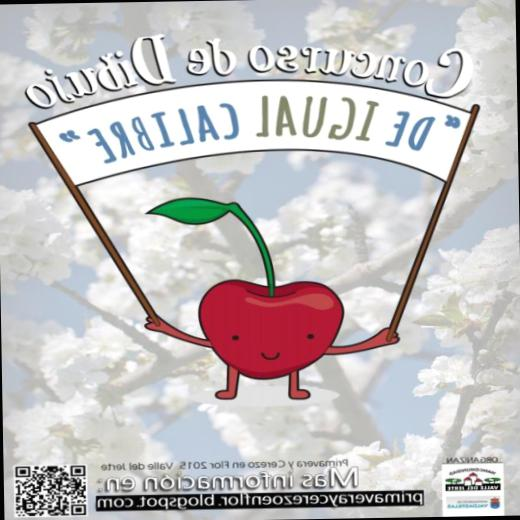Apple: (142, 192, 402, 400)
